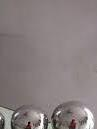ironball: (50, 98, 96, 128), (7, 102, 48, 128), (0, 102, 10, 128)
